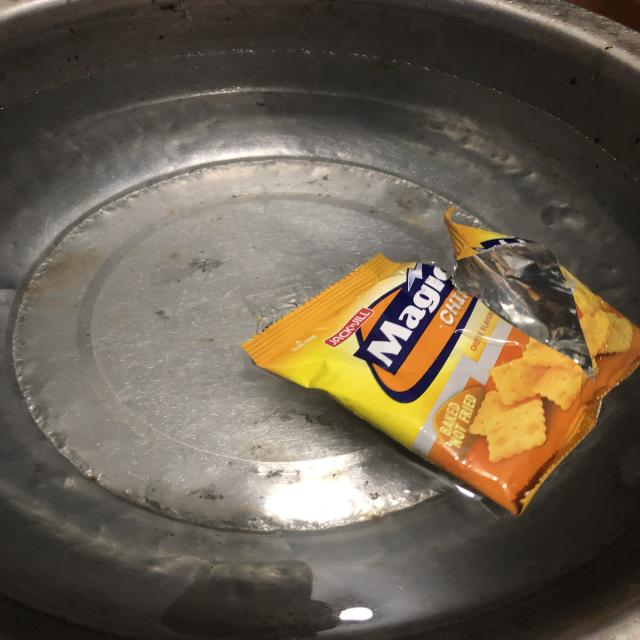Plastic Wrapper: (233, 224, 640, 509)
